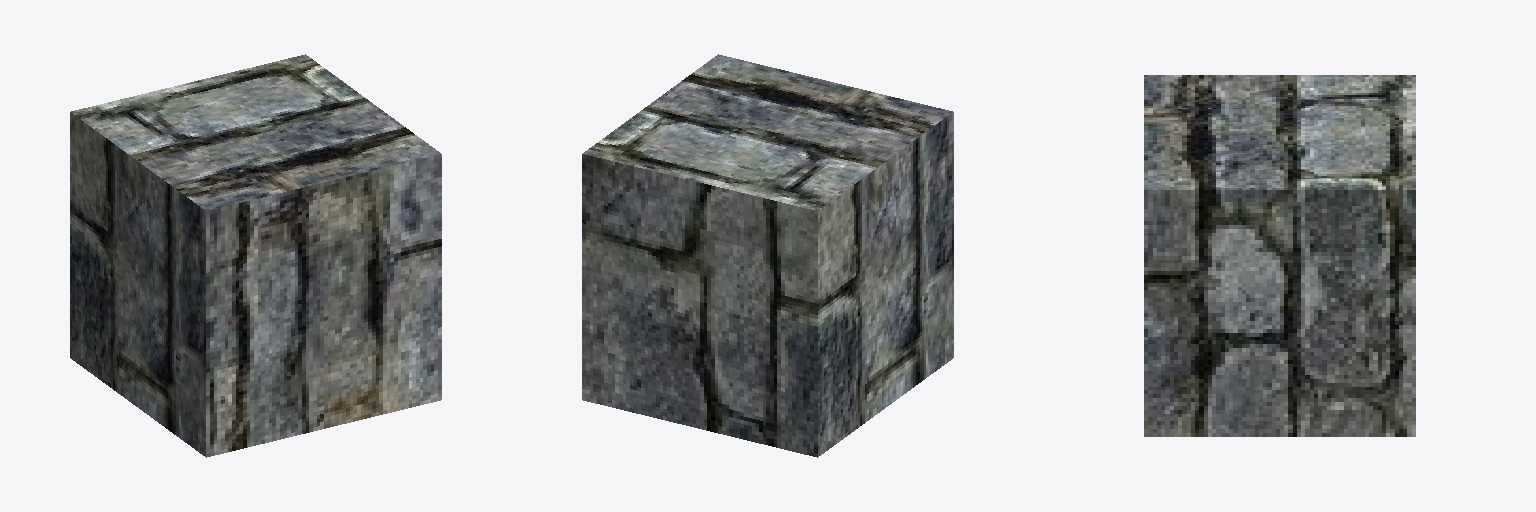
3 views of the same model, side by side, from view 1: azimuth 30°, elevation 25°; view 2: azimuth 150°, elevation 25°; view 3: azimuth 270°, elevation 25° (orthographic).
Parts seen in each view (by area): view 1: Cube; view 2: Cube; view 3: Cube.
Boxes of the visible parts, x1=… form: Cube: x1=70, y1=54, x2=441, y2=457; Cube: x1=582, y1=54, x2=953, y2=457; Cube: x1=1144, y1=75, x2=1415, y2=436.
Bounding box in the file's own units: 2 × 2 × 2.
1 materials, 1 textured.